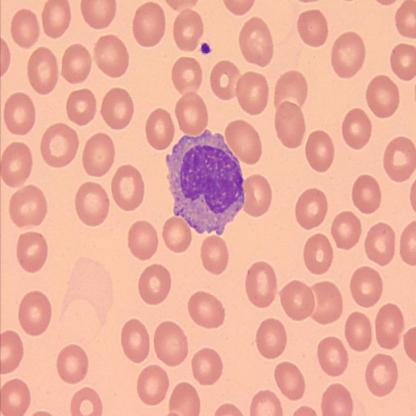Monocyte: (164, 126, 246, 237)
